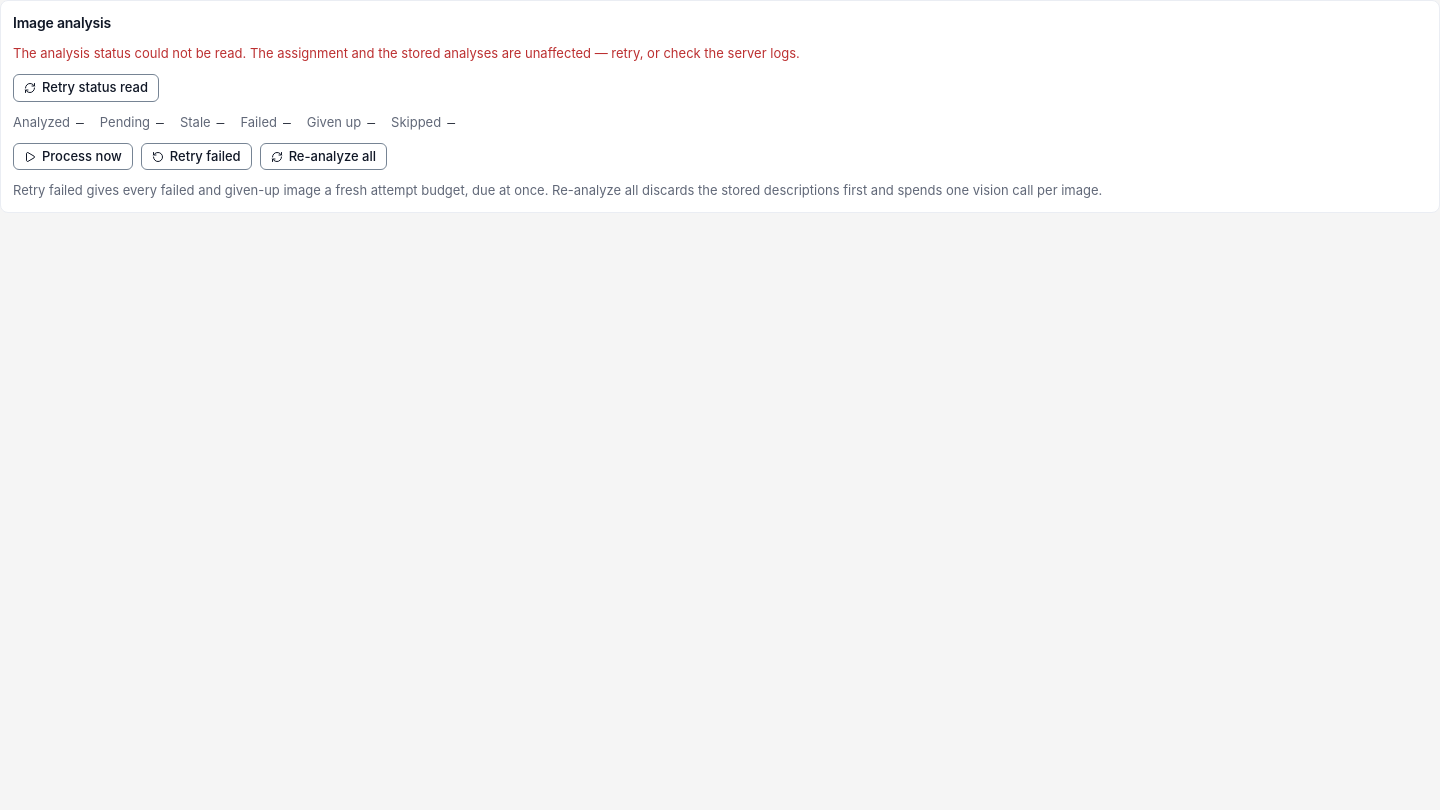
Test: a failed refetch over a cached payload › never quotes a destructive scope off the unreadable payload
The width and height of the screenshot is (1440, 810).
expect the text with test id "image-analysis-status" does not show "Reading analysis status": met, box [13,45,800,61]
expect the text with test id "image-analysis-status" shows "could not be read": met, box [13,45,800,61]
Click the button with test id "image-analysis-reanalyze-all".
click(323, 157)  # box [260,143,387,170]
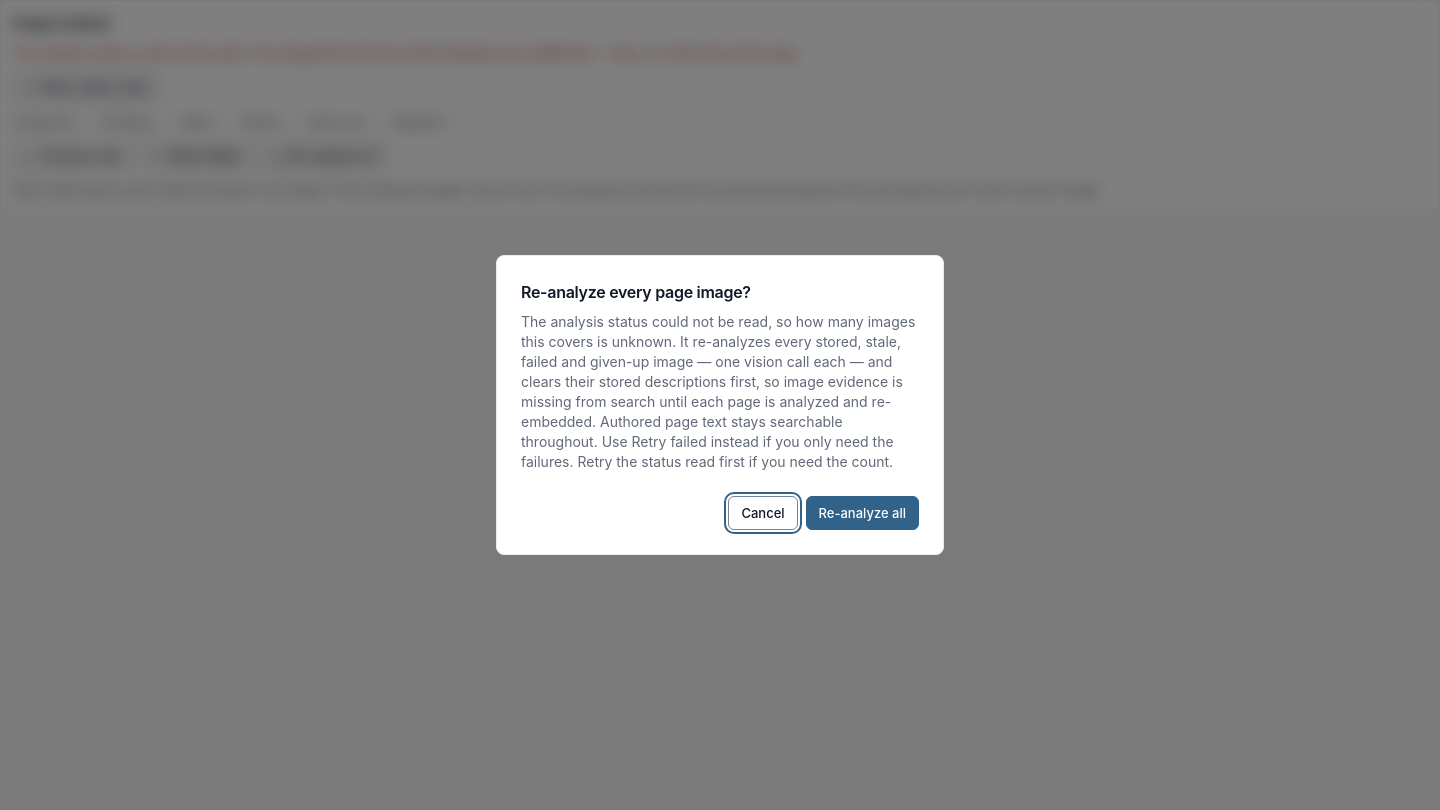
expect the dialog with test id "confirm-dialog" shows "how many images this covers is unknown": met, box [521,313,915,470]
expect the dialog with test id "confirm-dialog" shows "clears their stored descriptions first": met, box [521,313,915,470]
expect the dialog with test id "confirm-dialog" shows "Retry the status read first": met, box [521,313,915,470]
